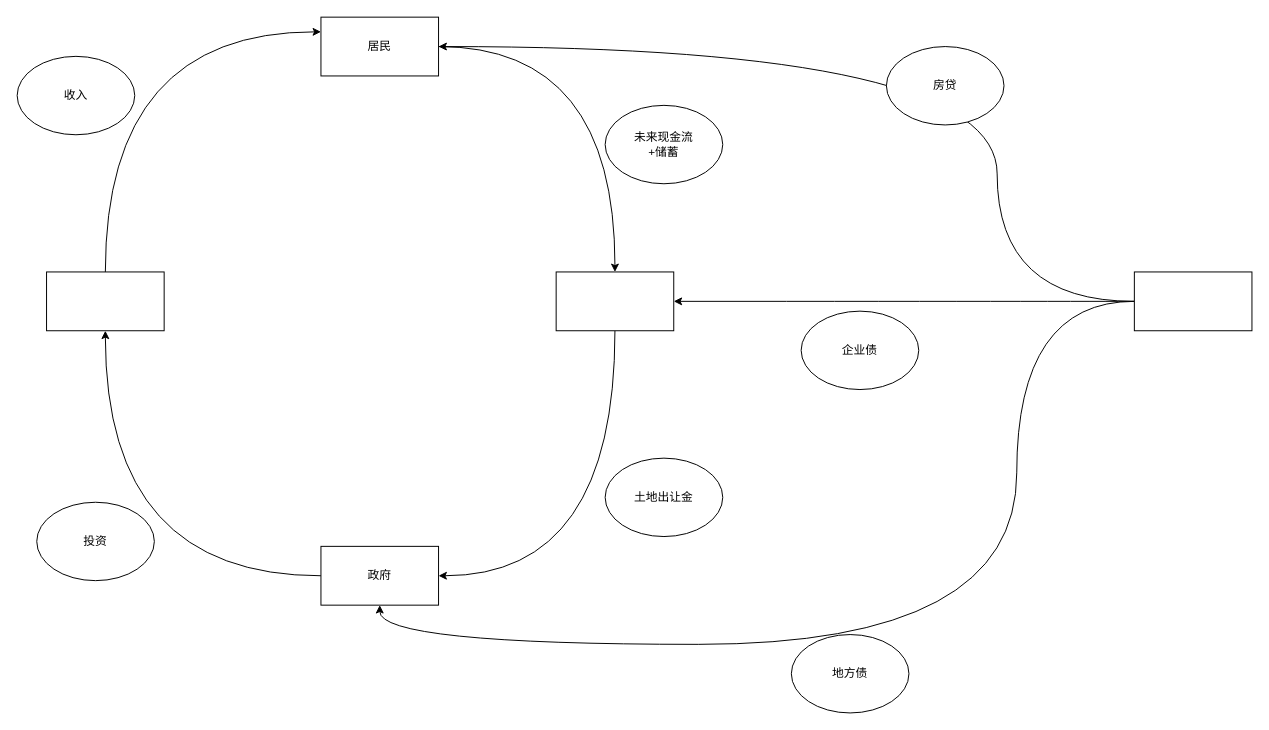
Image size: 1269x730. Some labels were removed from this diagram. Here are the shapes that lost their labels. From the top down, the centre of each, then its label:
At (105,301): "企业".
At (614,301): "开发商".
At (1192,301): "银行".
